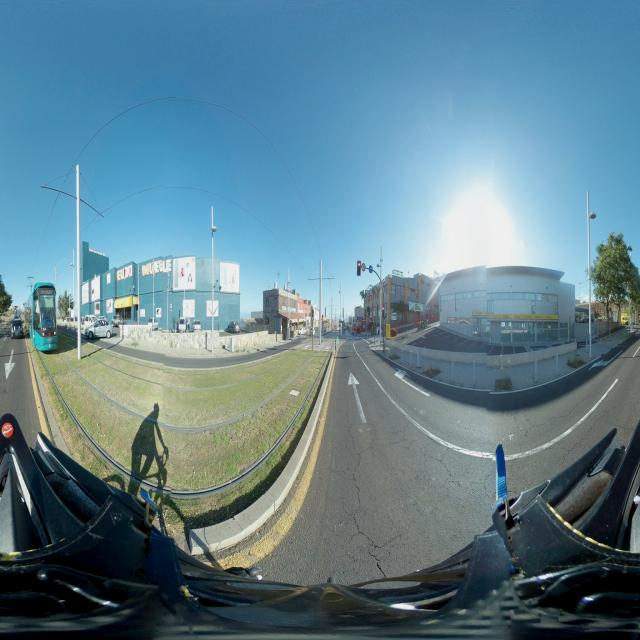car: (84, 315, 119, 341), (10, 316, 24, 339)
